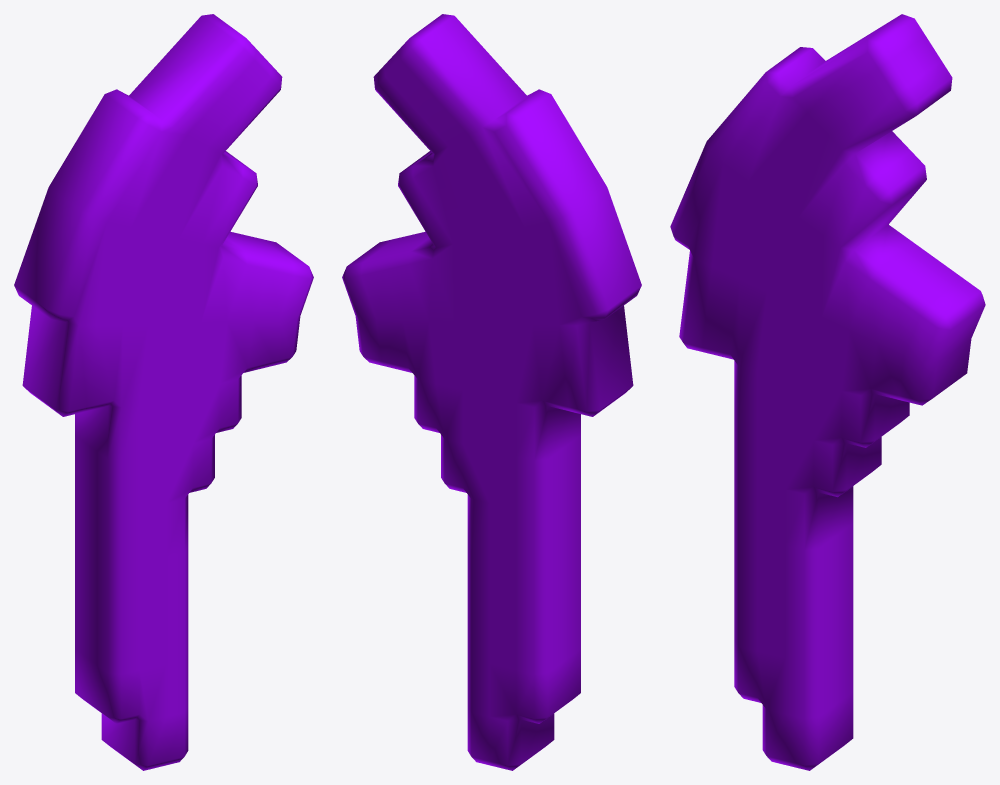
The model's file is OpticalPuzzle_1.FBX.
The picture shows the model from 3 angles, left to right: view 1: azimuth 30°, elevation 25°; view 2: azimuth 150°, elevation 25°; view 3: azimuth 330°, elevation 25°; orthographic projection. The views are drawn at different scales.
Visible parts, largest first — view 1: OpticalPuzzle_1; view 2: OpticalPuzzle_1; view 3: OpticalPuzzle_1.
Boxes of the visible parts, x1,y1,x2,y2 form: OpticalPuzzle_1: [14, 14, 313, 770]; OpticalPuzzle_1: [342, 14, 641, 770]; OpticalPuzzle_1: [670, 14, 985, 770].
Bounding box in the file's own units: 450 × 1143 × 125.
